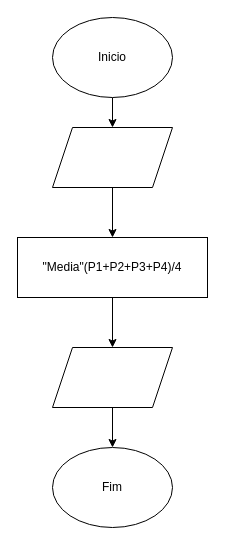
This 225x545 diagram has some shape labels left out. Each missing label, with the box of its shape:
Escrver "Media": (52, 346, 172, 408)
ler P1,P2,P3,P4: (52, 126, 172, 188)
